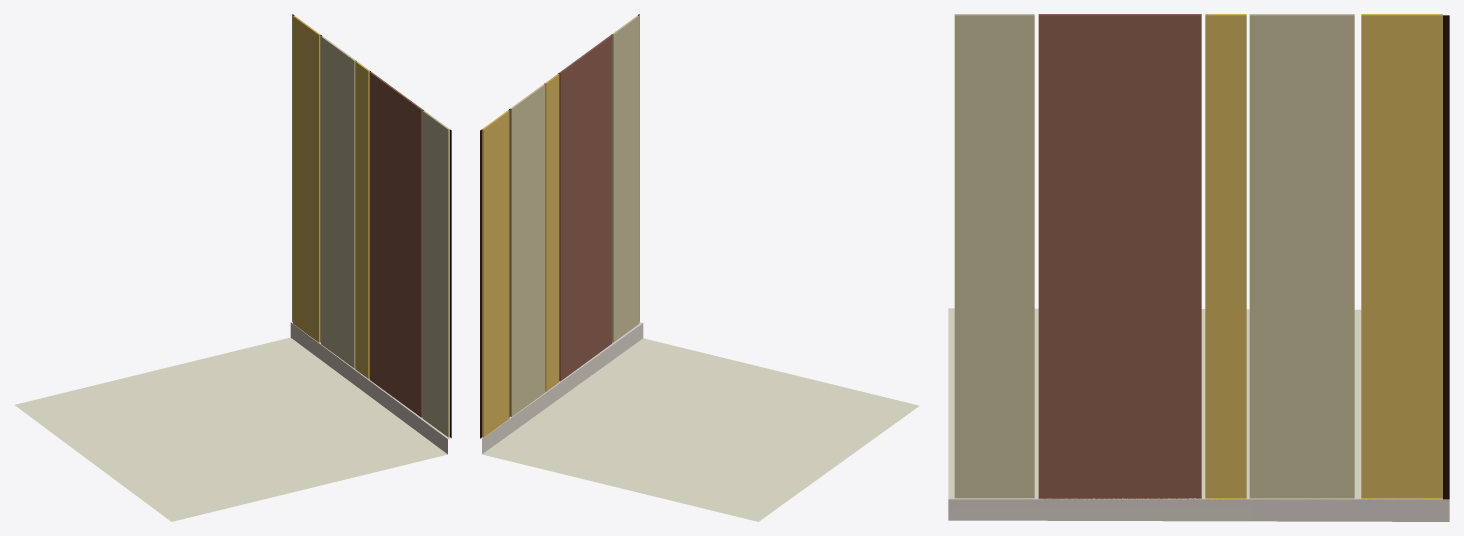
Rendered from Room Edge Roofless (Untextured).fbx.
3 renders of one model, left to right at view 1: azimuth 30°, elevation 25°; view 2: azimuth 150°, elevation 25°; view 3: azimuth 270°, elevation 25°, orthographic. The views are drawn at different scales.
Parts seen in each view (by area): view 1: pasted__roomCorner9; view 2: pasted__roomCorner9; view 3: pasted__roomCorner9.
Boxes of the visible parts, box(x1,y1,x2,y2) form: pasted__roomCorner9: box(15, 14, 451, 521); pasted__roomCorner9: box(480, 14, 919, 521); pasted__roomCorner9: box(948, 14, 1449, 521).
Size of the model in its own units: 340 by 375 by 335.
